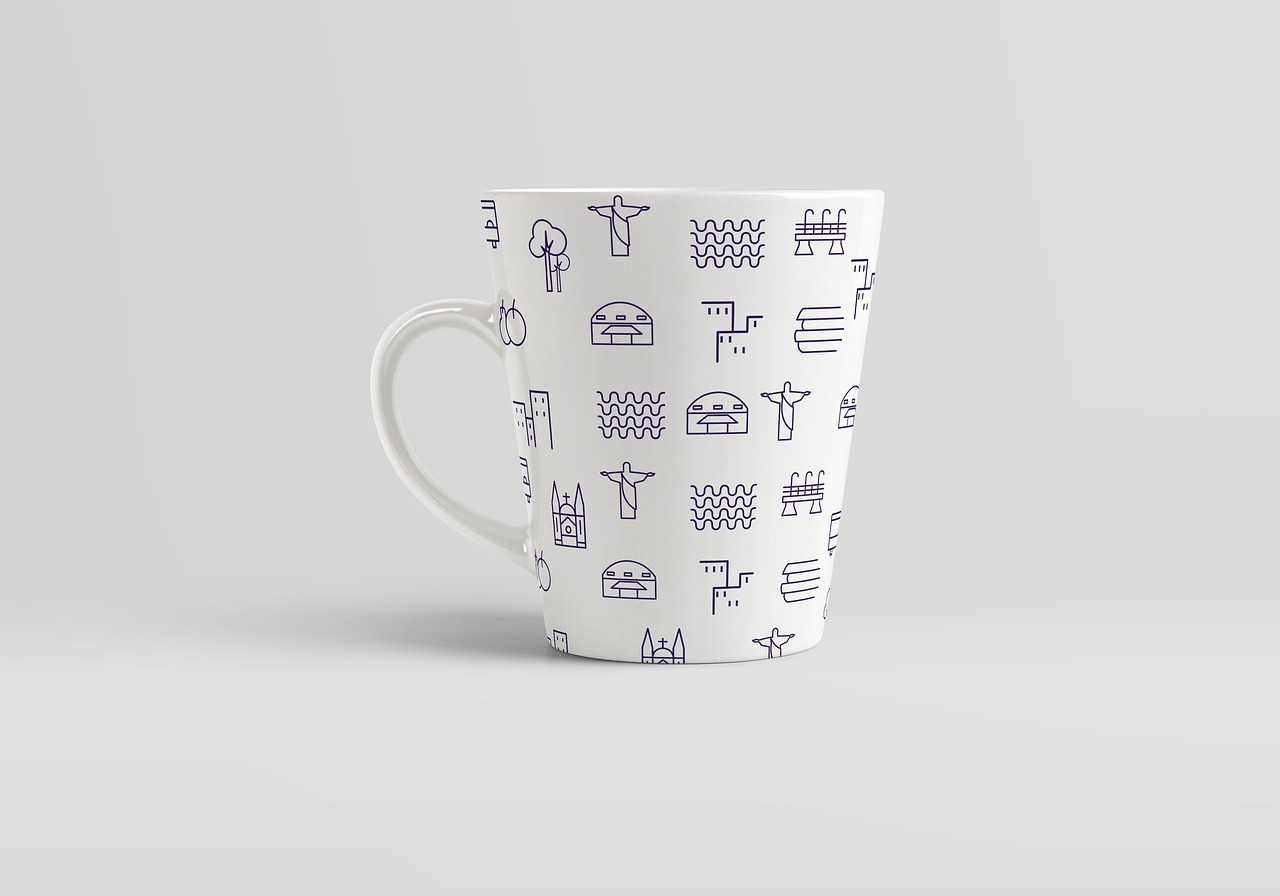mug: (360, 166, 910, 691)
